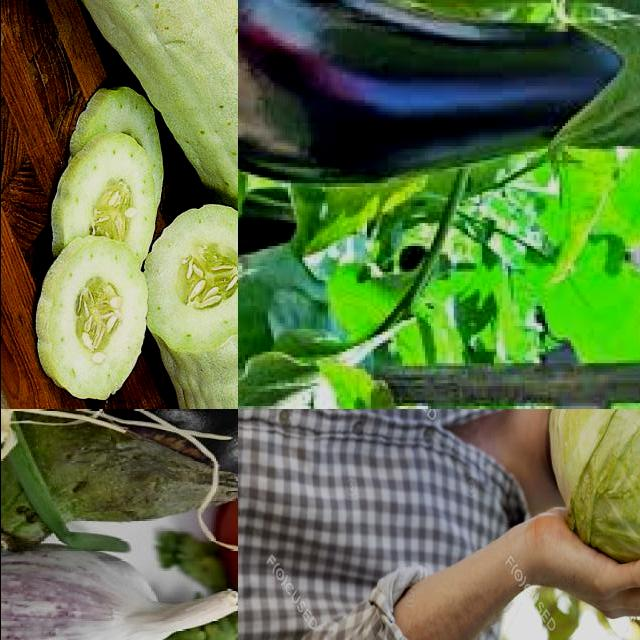cabbage: (552, 410, 640, 568)
cucumber: (47, 1, 238, 318), (146, 205, 238, 410)
eggplant: (238, 1, 640, 178), (1, 410, 238, 545)
garlic: (1, 550, 214, 640)
